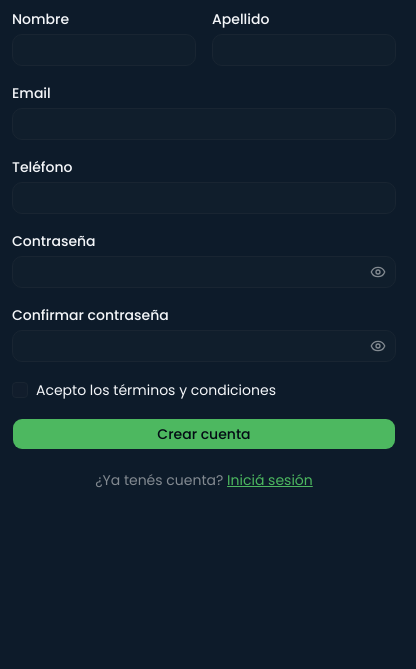
RegisterForm › muestra errores de validación si se envía el formulario vacío
Click the button "Crear cuenta". click: (204, 434)
box: [12, 418, 396, 450]
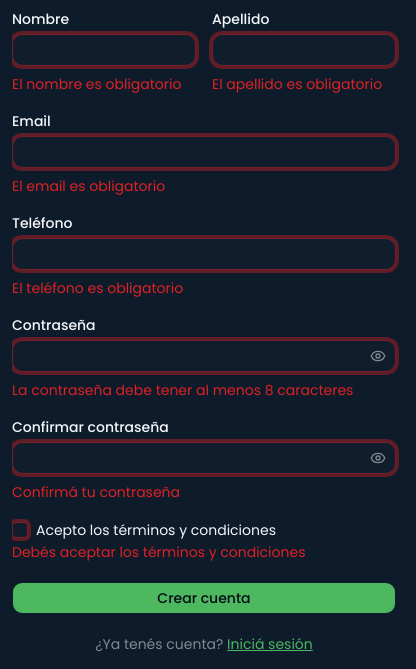
Expected: the text "El nombre es obligatorio" is shown, [12, 74, 196, 94]
Expected: the text "El apellido es obligatorio" is shown, [212, 74, 396, 94]
Expected: the text "Debés aceptar los términos y condiciones" is shown, [12, 542, 306, 562]
